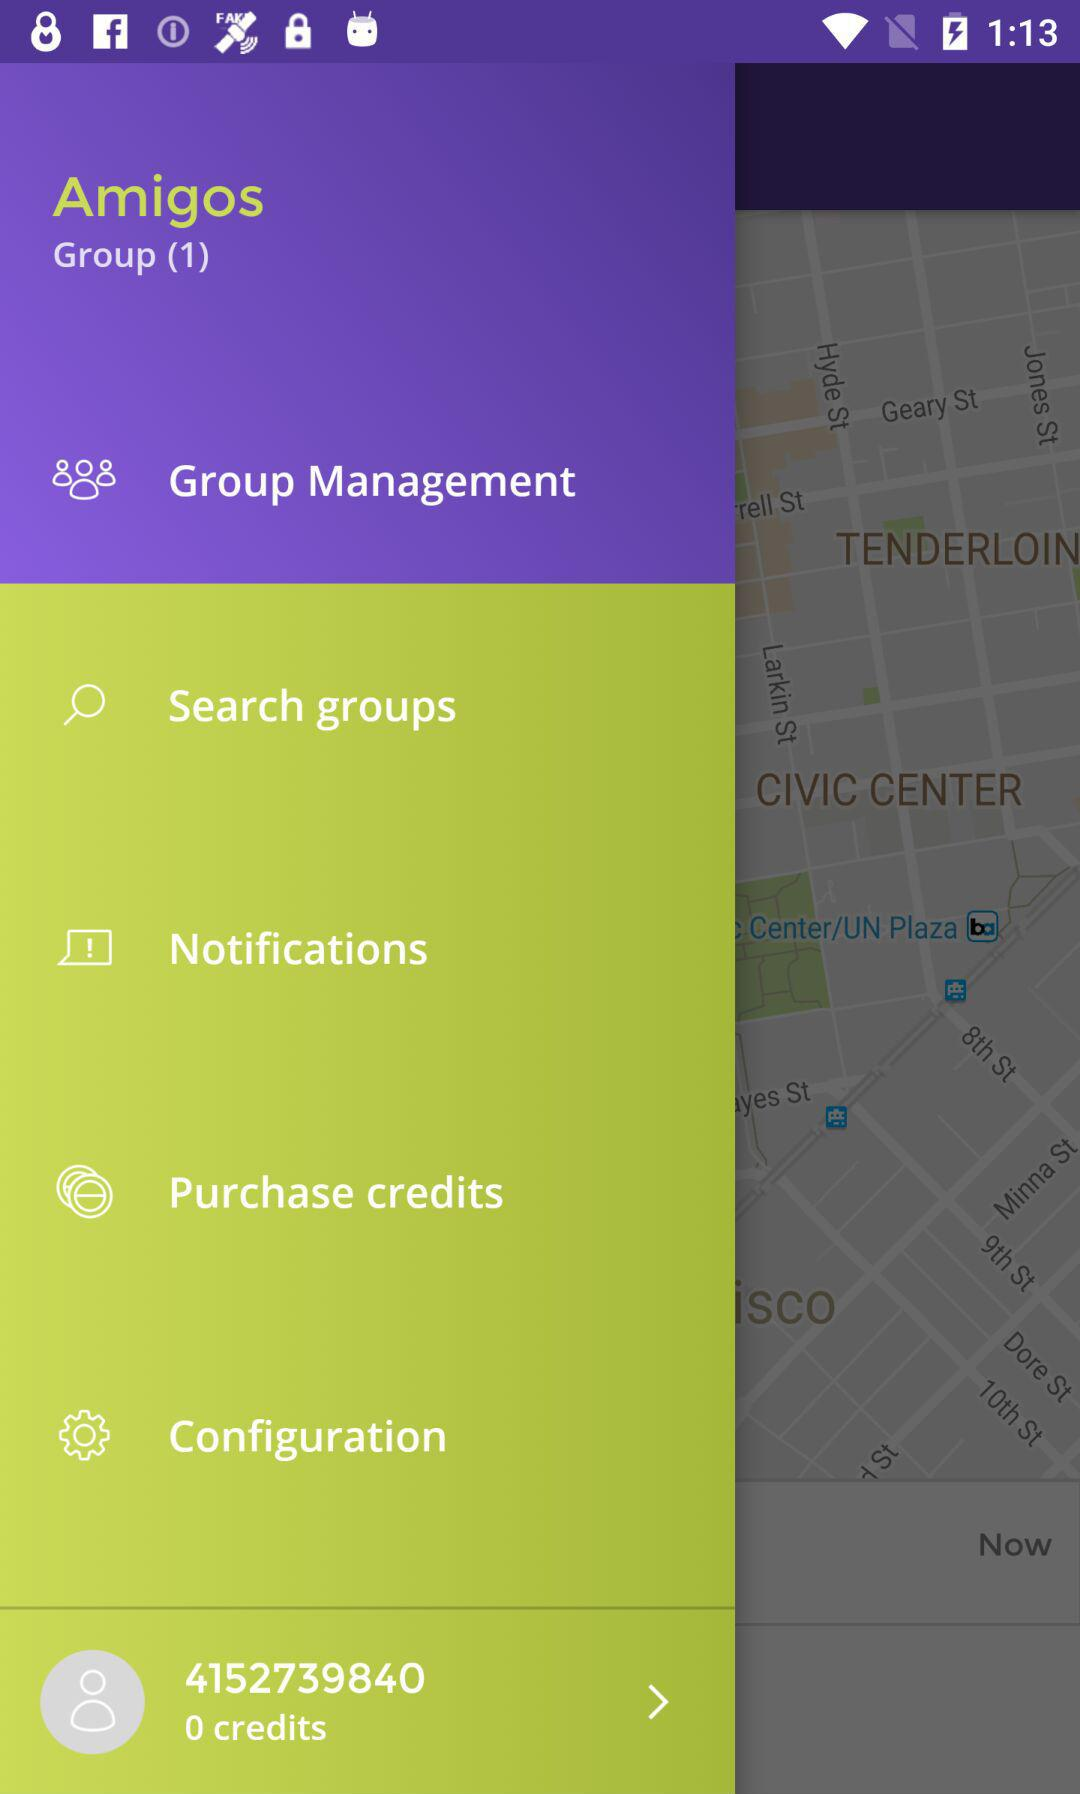Drawer: (1, 64, 735, 1794)
Icon: (40, 1649, 147, 1756), (53, 457, 118, 502), (58, 1410, 111, 1463), (56, 929, 114, 967), (63, 684, 108, 728), (646, 1680, 671, 1721)
Image: (56, 1164, 115, 1220)
Text: (168, 463, 579, 509), (169, 687, 457, 733), (170, 1173, 505, 1211), (169, 1417, 447, 1463), (53, 173, 265, 229), (170, 930, 429, 967), (184, 1661, 427, 1697), (53, 240, 211, 278), (184, 1713, 328, 1743)
UpperTaskBar: (1, 1, 1080, 64)
